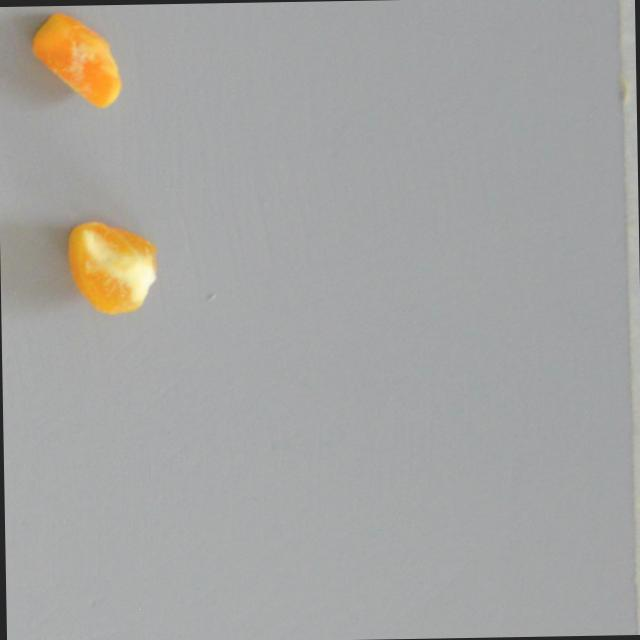pelicula: (31, 9, 125, 111), (65, 219, 159, 316)
